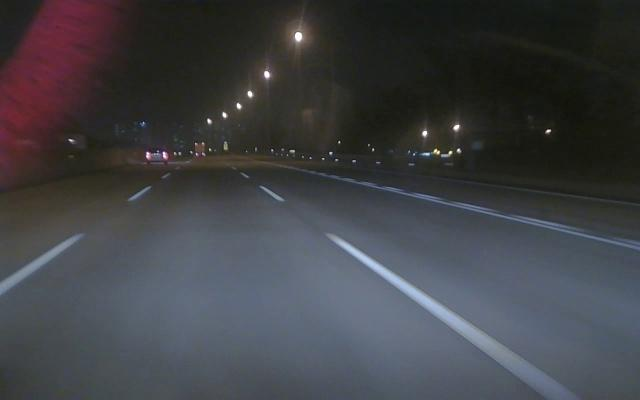lane: (261, 186, 578, 399), (333, 174, 640, 252), (1, 187, 148, 294)
